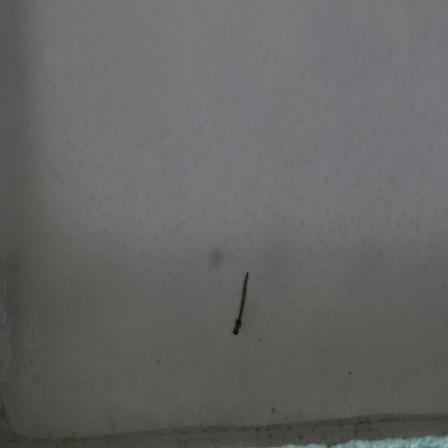Jentik-Nyamuk: (229, 266, 257, 336)
